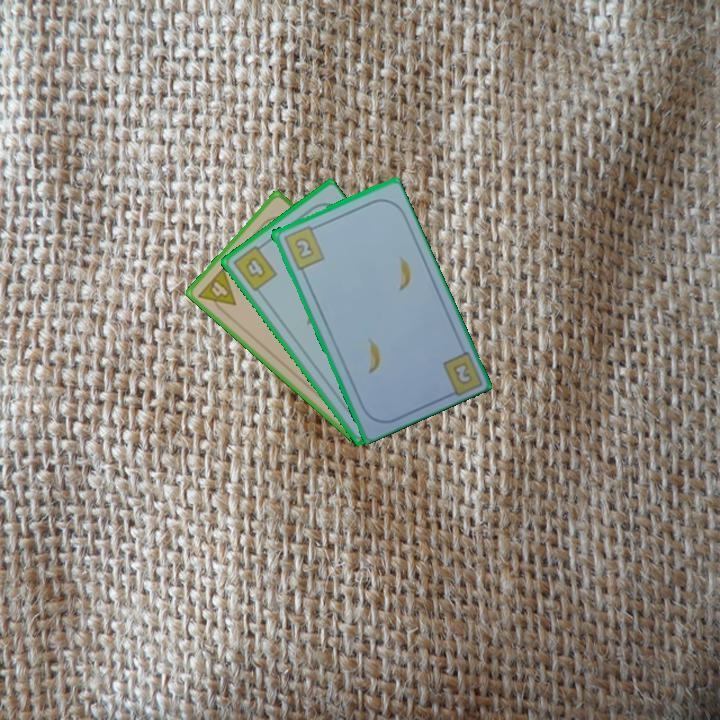2b: (280, 222, 327, 272), (449, 358, 475, 387)
4b: (229, 240, 280, 295)
4p: (194, 264, 239, 318)
